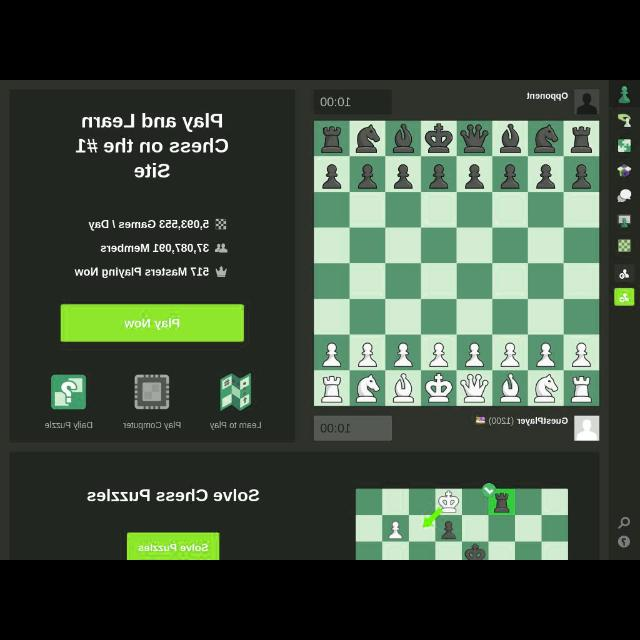button: (614, 264, 634, 282), (614, 288, 634, 306)
icon: (617, 516, 631, 530), (215, 266, 228, 278), (215, 218, 227, 230), (618, 536, 630, 548), (618, 268, 630, 280), (618, 292, 630, 304), (214, 243, 228, 253)
image: (313, 120, 599, 406), (355, 484, 569, 558), (134, 374, 170, 411), (50, 374, 86, 410), (220, 372, 252, 412), (574, 416, 600, 440), (573, 90, 599, 114), (616, 188, 632, 204), (616, 214, 632, 228), (616, 238, 632, 252), (618, 86, 630, 104), (617, 113, 631, 127), (617, 139, 631, 153), (617, 165, 631, 178), (476, 416, 486, 424)
text: (80, 112, 224, 132), (74, 137, 230, 153), (86, 488, 260, 502), (74, 267, 208, 279), (89, 219, 210, 231), (100, 243, 210, 254), (489, 418, 569, 427), (134, 162, 172, 180), (124, 318, 180, 330), (123, 421, 181, 431), (138, 544, 208, 552), (210, 420, 262, 430), (44, 421, 94, 431), (526, 92, 568, 100), (319, 97, 351, 107), (320, 424, 350, 434)
textbutton: (60, 304, 244, 342), (127, 533, 219, 559)
toolbar: (610, 81, 640, 559)
